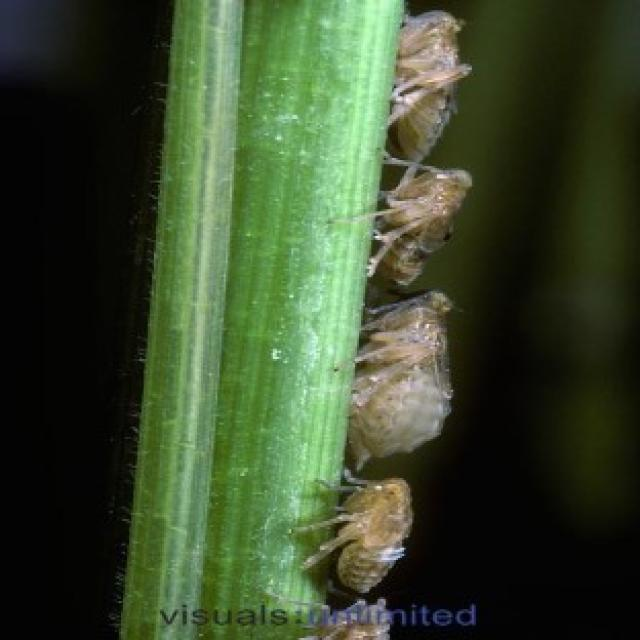brown plant hopper: (347, 291, 449, 468), (388, 10, 470, 158), (375, 168, 470, 291), (308, 478, 410, 591)
